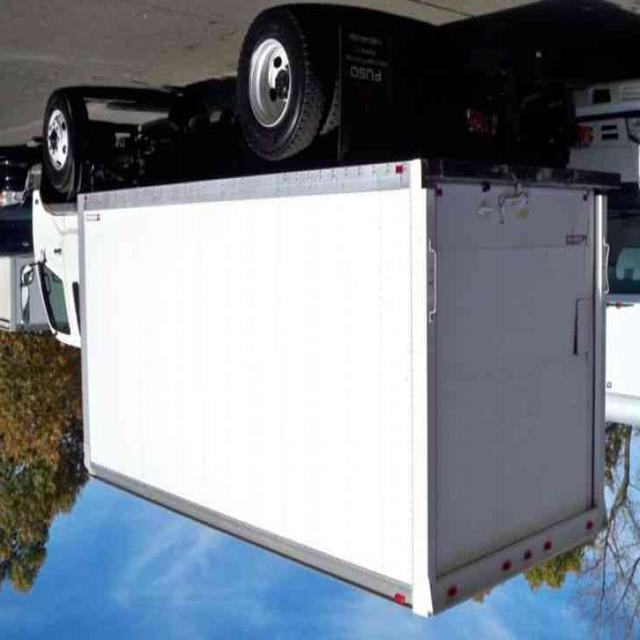truck: (24, 12, 611, 620)
